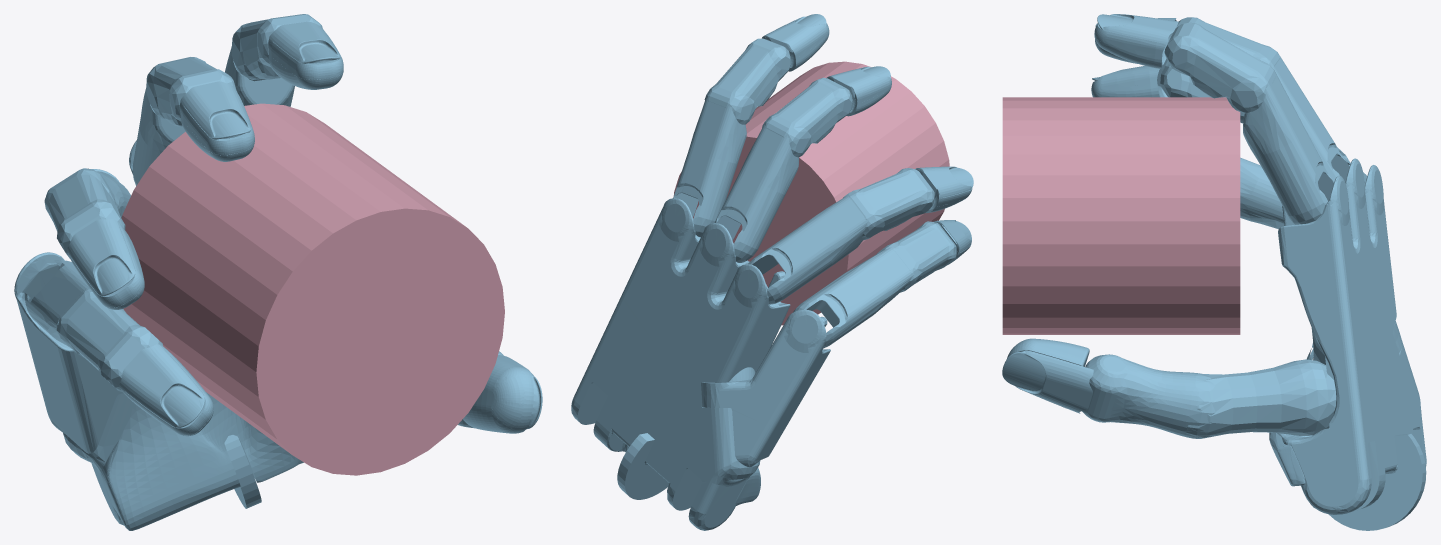
The picture shows the model from 3 angles, left to right: view 1: azimuth 30°, elevation 25°; view 2: azimuth 150°, elevation 25°; view 3: azimuth 270°, elevation 25°; orthographic projection. The views are drawn at different scales.
Parts seen in each view (by area): view 1: cylinder_medium.stl, world; view 2: world, cylinder_medium.stl; view 3: world, cylinder_medium.stl.
Part boxes in pixels (bbox=[...]): cylinder_medium.stl: bbox=[121, 103, 504, 475]; world: bbox=[14, 14, 542, 530]; world: bbox=[571, 14, 973, 530]; cylinder_medium.stl: bbox=[673, 61, 949, 325]; world: bbox=[1002, 14, 1426, 530]; cylinder_medium.stl: bbox=[1002, 97, 1240, 334].
Bounding box in the file's own units: 0.133 × 0.1811 × 0.1428.
